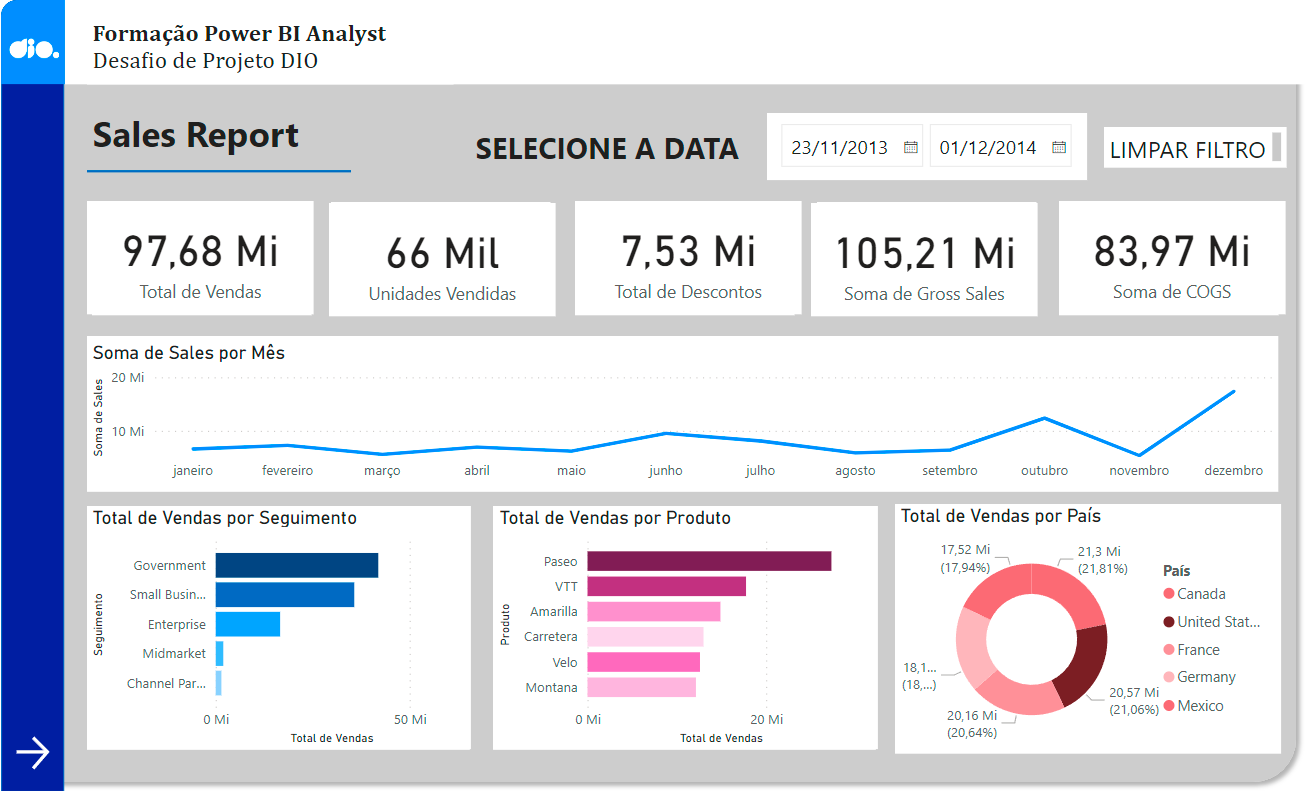

What the dashboard file says about the page in this screenshot:
{"tool":"powerbi","page":{"name":"Página 1","canvas":[1280,720],"ordinal":0},"visuals":[{"type":"group","id":"g1","title":"Fundo","box":[93.3,0,1186.7,720],"z":0},{"type":"shape","box":[93.7,0,1186.2,720],"z":0,"group":"g1"},{"type":"slicer","fields":{"Values":["financials.Date"]},"box":[790,102.9,291.4,61.4],"z":0,"group":"g4"},{"type":"shape","box":[176.7,183.3,199.5,103.3],"z":0,"group":"g2"},{"type":"shape","box":[171.7,460,347.9,221.7],"z":0,"group":"g3"},{"type":"shape","box":[93.7,0,57.5,720],"z":1000,"group":"g1"},{"type":"textbox","box":[171.7,11.7,333.3,65],"z":1000},{"type":"textbox","box":[1095.7,115.8,165.7,37.1],"z":1000,"group":"g4"},{"type":"shape","box":[394.4,183.3,199.5,103.3],"z":1000,"group":"g2"},{"type":"shape","box":[541.2,460,347.9,221.7],"z":1000,"group":"g3"},{"type":"shape","box":[93.3,0,58.3,76.7],"z":2000,"group":"g1"},{"type":"textbox","box":[520,111.5,252.9,52.9],"z":2000,"group":"g4"},{"type":"group","id":"g2","title":"Cartões","box":[176.7,183.3,1078.3,103.3],"z":2000},{"type":"shape","box":[616.1,183.3,199.5,103.3],"z":2000,"group":"g2"},{"type":"shape","box":[907.1,460,347.9,221.7],"z":2000,"group":"g3"},{"type":"shape","box":[151.6,0,1128.3,76.7],"z":3000,"group":"g1"},{"type":"actionButton","box":[1095.7,114.3,165.7,40],"z":3000,"group":"g4"},{"type":"shape","box":[171.7,148.3,240,15],"z":3000},{"type":"shape","box":[835.8,183.3,199.5,103.3],"z":3000,"group":"g2"},{"type":"donutChart","fields":{"Category":["financials.Country"],"Y":["Sum(financials. Sales)"]},"box":[906.5,457.8,351.4,227.1],"z":3000,"group":"g3"},{"type":"textbox","box":[171.7,93.3,218.3,55],"z":4000},{"type":"shape","box":[1055.5,183.3,199.5,103.3],"z":4000,"group":"g2"},{"type":"shape","box":[171.7,305,1083.3,141.7],"z":5000},{"type":"group","id":"g3","title":"Graficos","box":[171.7,457.8,1086.2,227.1],"z":6000},{"type":"lineChart","fields":{"Category":["financials.Date.Variation.Hierarquia de datas.Mês"],"Y":["Sum(financials. Sales)"]},"box":[172,310,1082,136],"z":7000},{"type":"card","fields":{"Values":["Sum(financials. Sales)"]},"box":[171.4,182.9,205.7,102.9],"z":8000},{"type":"card","fields":{"Values":["Sum(financials.Sale Price)"]},"box":[391.4,184.3,205.7,102.9],"z":9000},{"type":"card","fields":{"Values":["Sum(financials.Discounts)"]},"box":[615.7,182.9,205.7,102.9],"z":10000},{"type":"card","fields":{"Values":["Sum(financials.Gross Sales)"]},"box":[830,184.3,205.7,102.9],"z":11000},{"type":"card","fields":{"Values":["Sum(financials.COGS)"]},"box":[1055.7,182.9,205.7,102.9],"z":12000},{"type":"clusteredBarChart","fields":{"Y":["Sum(financials. Sales)"],"Category":["financials.Segment"]},"box":[171.4,460,348.6,221.4],"z":13000},{"type":"clusteredBarChart","fields":{"Y":["Sum(financials. Sales)"],"Category":["financials.Product"]},"box":[541.4,460,348.6,221.4],"z":14000},{"type":"group","id":"g4","title":"Filtro ","box":[101.4,102.9,1160,601.4],"z":15000},{"type":"image","box":[96.4,20,54.5,48.2],"z":15001},{"type":"actionButton","box":[101.4,664.3,100,40],"z":15001,"group":"g4"}]}

Visuals, with their boxes on the page's 1280x720 design canvas (x1, y1, x2, y2). These are canvas units, not pixel positions in the 1305x791 screenshot, which may show the page scaled, cropped or inside an application window:
"Fundo" group: rect(93, 0, 1280, 720)
shape: rect(94, 0, 1280, 720)
slicer - financials.Date: rect(790, 103, 1081, 164)
shape: rect(177, 183, 376, 287)
shape: rect(172, 460, 520, 682)
shape: rect(94, 0, 151, 720)
textbox: rect(172, 12, 505, 77)
textbox: rect(1096, 116, 1261, 153)
shape: rect(394, 183, 594, 287)
shape: rect(541, 460, 889, 682)
shape: rect(93, 0, 152, 77)
textbox: rect(520, 112, 773, 164)
"Cartões" group: rect(177, 183, 1255, 287)
shape: rect(616, 183, 816, 287)
shape: rect(907, 460, 1255, 682)
shape: rect(152, 0, 1280, 77)
actionButton: rect(1096, 114, 1261, 154)
shape: rect(172, 148, 412, 163)
shape: rect(836, 183, 1035, 287)
donutChart - financials.Country x Sum(financials. Sales): rect(906, 458, 1258, 685)
textbox: rect(172, 93, 390, 148)
shape: rect(1056, 183, 1255, 287)
shape: rect(172, 305, 1255, 447)
"Graficos" group: rect(172, 458, 1258, 685)
lineChart - financials.Date.Variation.Hierarquia de datas.Mês x Sum(financials. Sales): rect(172, 310, 1254, 446)
card - Sum(financials. Sales): rect(171, 183, 377, 286)
card - Sum(financials.Sale Price): rect(391, 184, 597, 287)
card - Sum(financials.Discounts): rect(616, 183, 821, 286)
card - Sum(financials.Gross Sales): rect(830, 184, 1036, 287)
card - Sum(financials.COGS): rect(1056, 183, 1261, 286)
clusteredBarChart - Sum(financials. Sales) x financials.Segment: rect(171, 460, 520, 681)
clusteredBarChart - Sum(financials. Sales) x financials.Product: rect(541, 460, 890, 681)
"Filtro " group: rect(101, 103, 1261, 704)
image: rect(96, 20, 151, 68)
actionButton: rect(101, 664, 201, 704)
